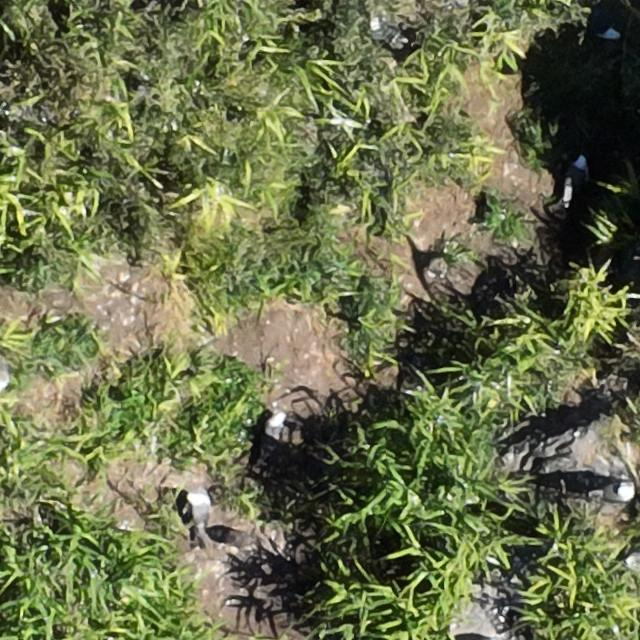umineko: (252, 410, 289, 470), (595, 26, 624, 74), (369, 18, 405, 44), (568, 155, 588, 193), (192, 494, 211, 534), (594, 482, 632, 501), (627, 549, 640, 569)
